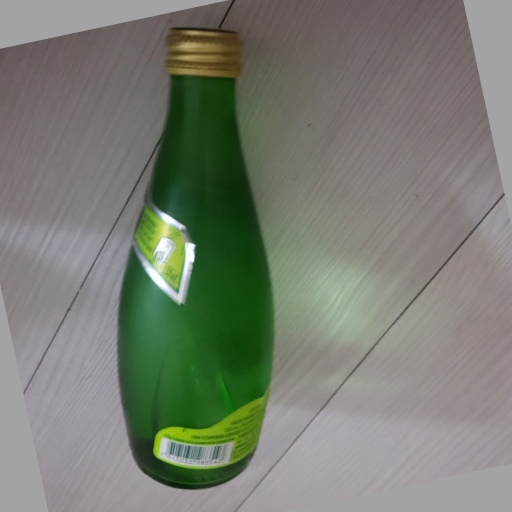Glass_4: (114, 23, 279, 487)
